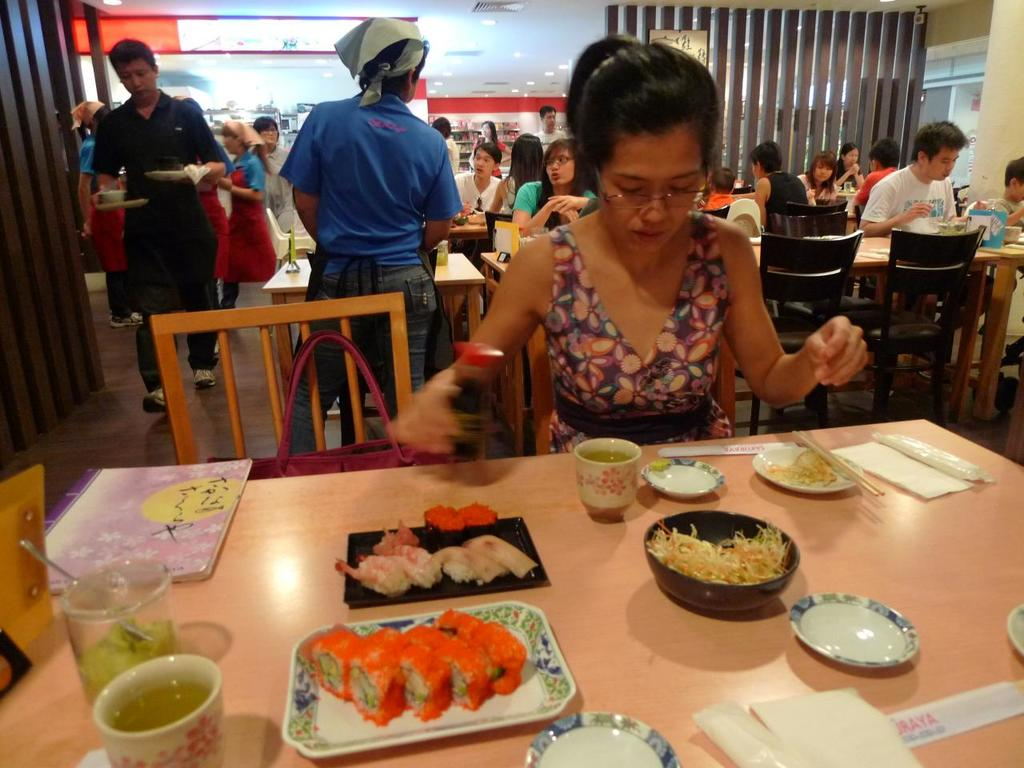sushi: (295, 609, 526, 726), (333, 502, 535, 598), (293, 630, 366, 702)
